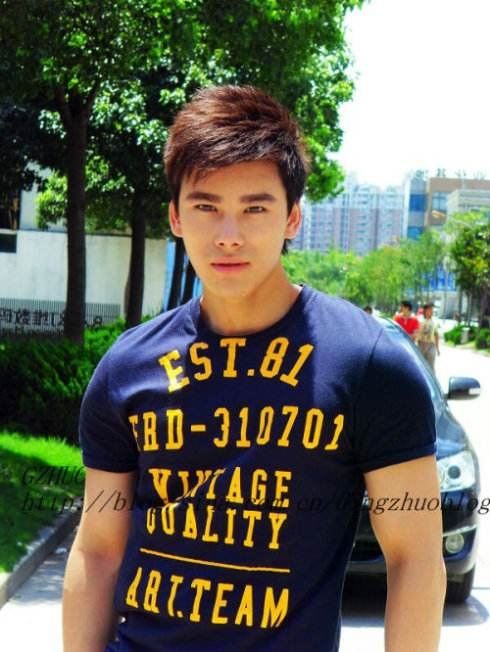person: (112, 92, 433, 643)
